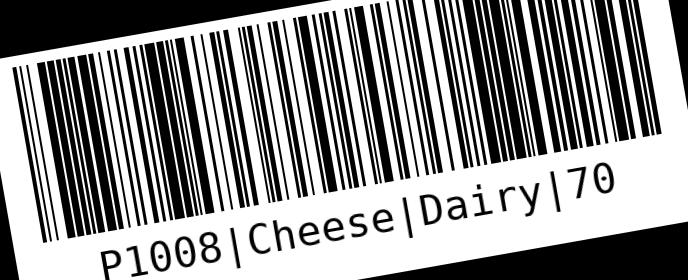milk: (4, 1, 687, 279)
